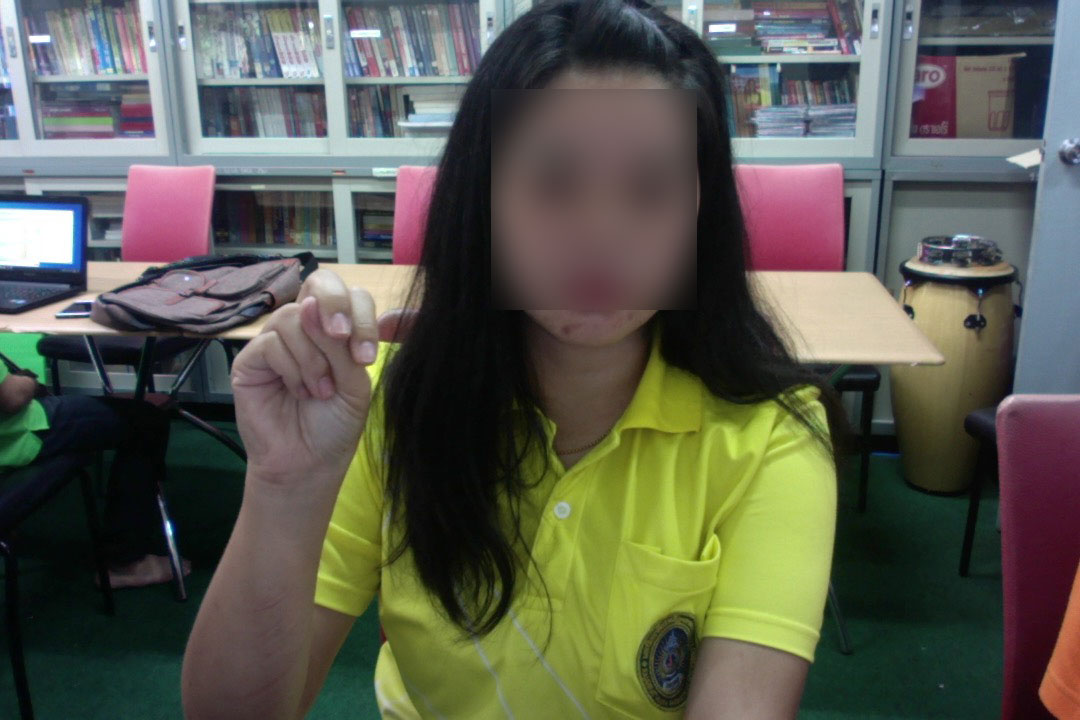nor: (222, 265, 389, 508)
